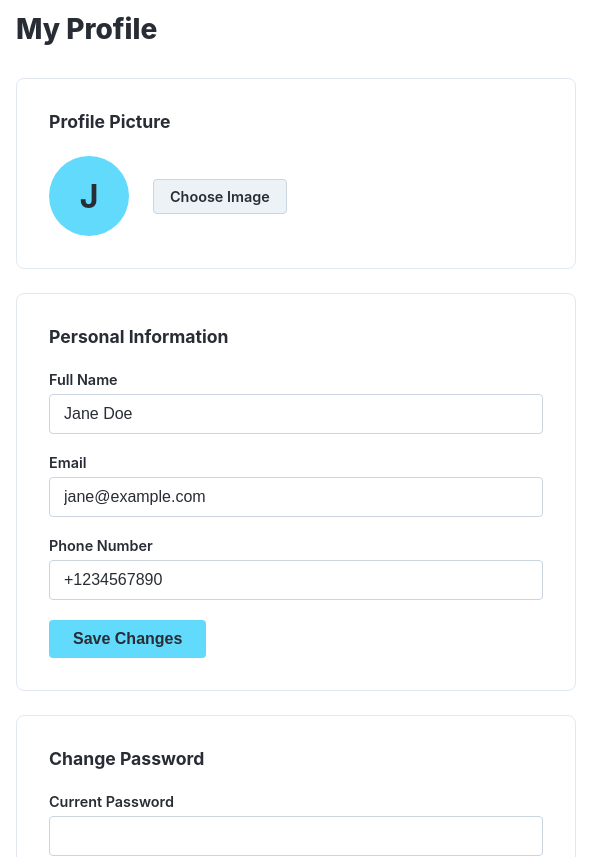
Test: ProfilePage integration › profile update integration › displays the server error message when the profile API responds with a conflict
Check: the field labelled "Full Name" is shown, box [49,394,543,434]
Click the button "Save Changes": click(128, 639) [49,620,206,658]
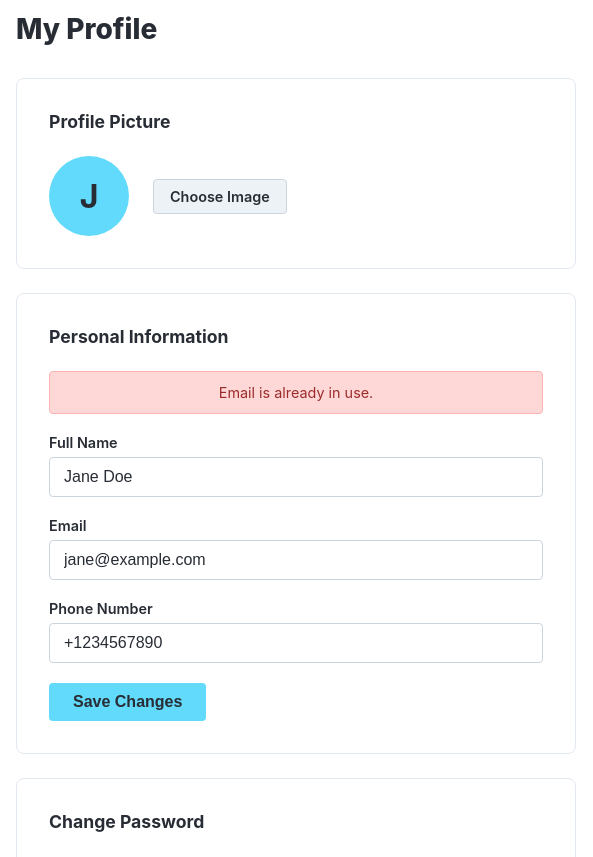
Check: the message shows "Email is already in use", box [219,384,373,401]
